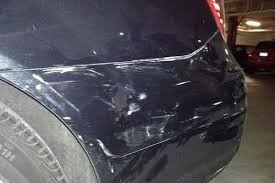Dent: (29, 36, 210, 91)
Scratch: (47, 79, 167, 157)
